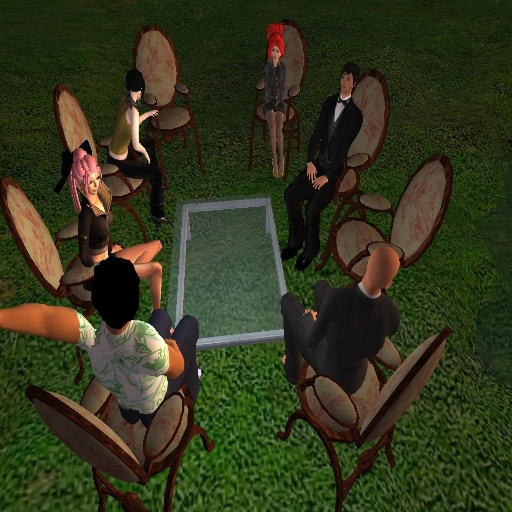hand: (310, 173, 326, 192), (304, 161, 317, 178), (303, 307, 318, 320), (161, 336, 176, 347), (109, 243, 123, 252), (149, 106, 158, 119), (144, 151, 150, 166)
